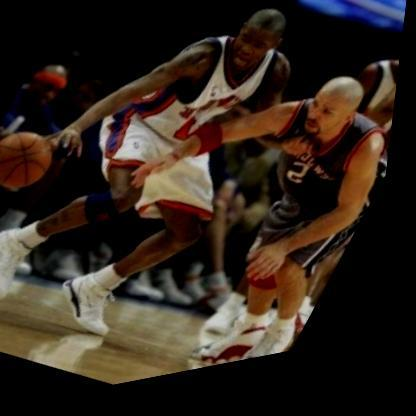basketball: (0, 114, 71, 210)
